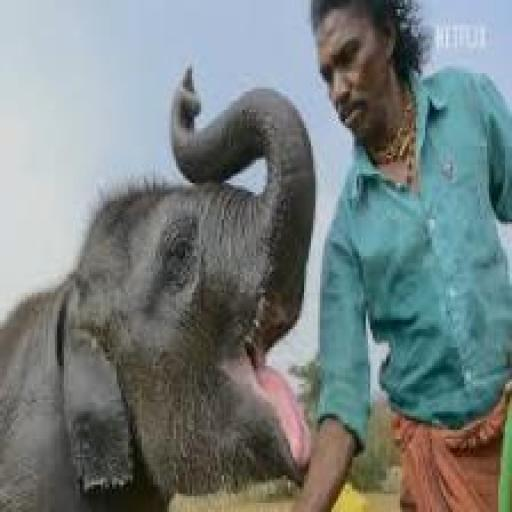Elephant: (6, 29, 332, 512)
